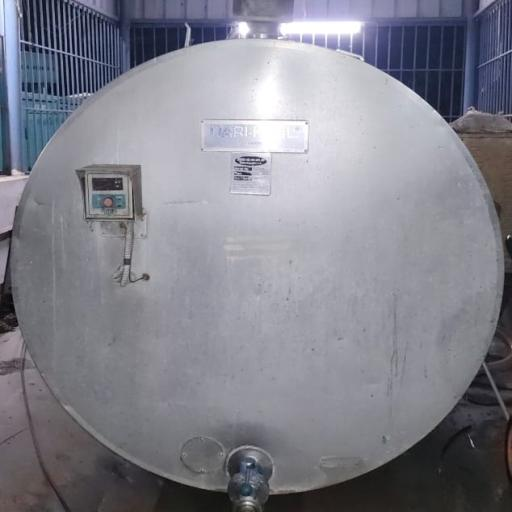silo: (6, 35, 506, 500)
